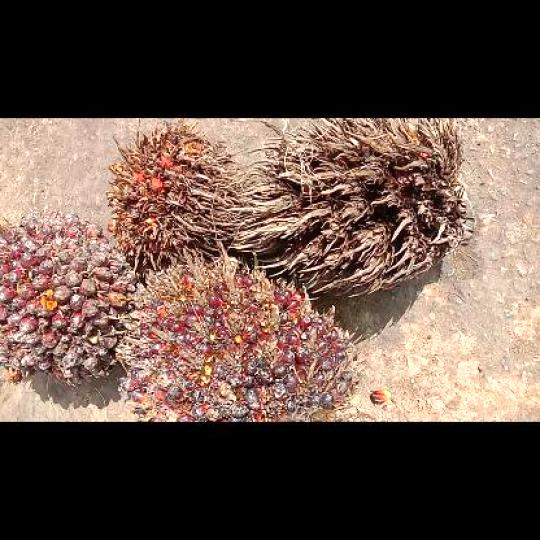kurang masak: (1, 210, 144, 388)
masak: (123, 252, 368, 418)
terlalu masak: (105, 123, 240, 269)
